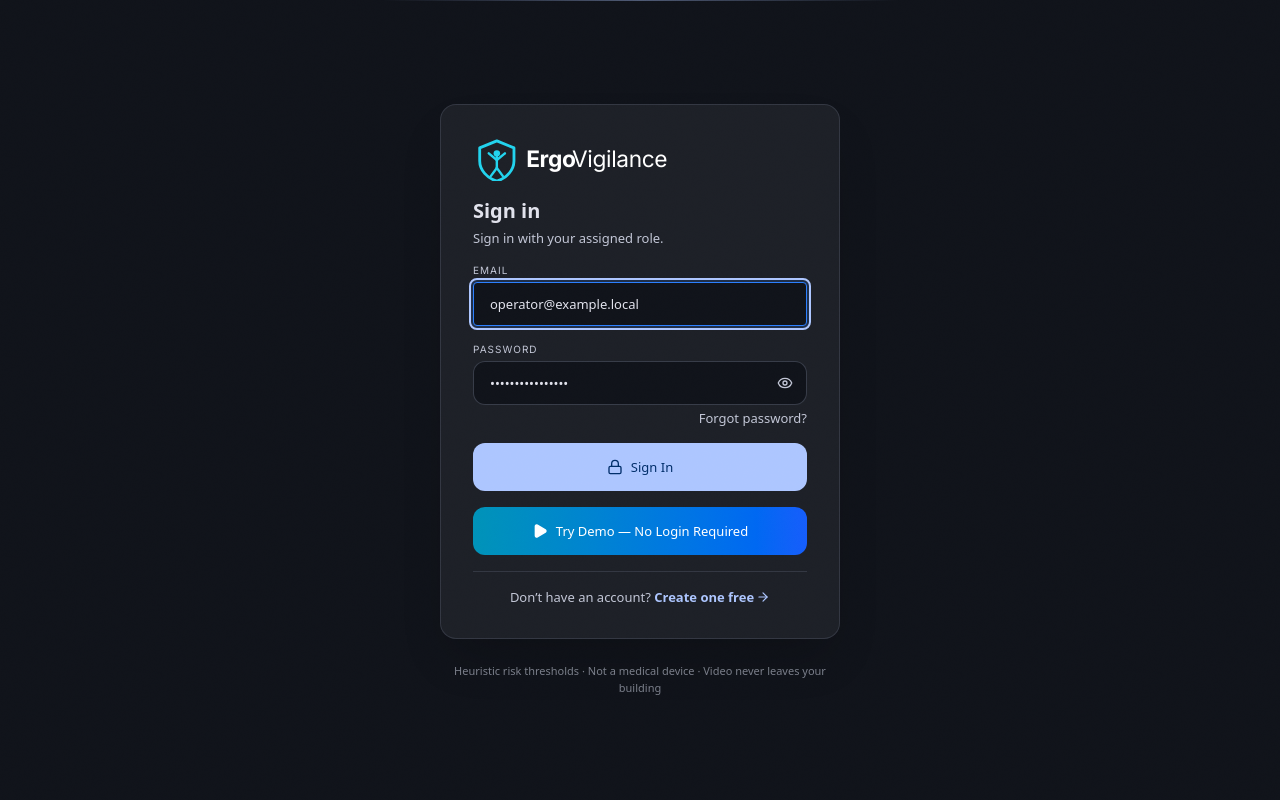
frontend smoke › renders the alert center with no-alerts state
Expected: the heading "Sign in" is shown, top-left (473, 197), bottom-right (540, 224)
Step 1. Click the button "Sign In" → (640, 467), box top-left (473, 443), bottom-right (807, 491)
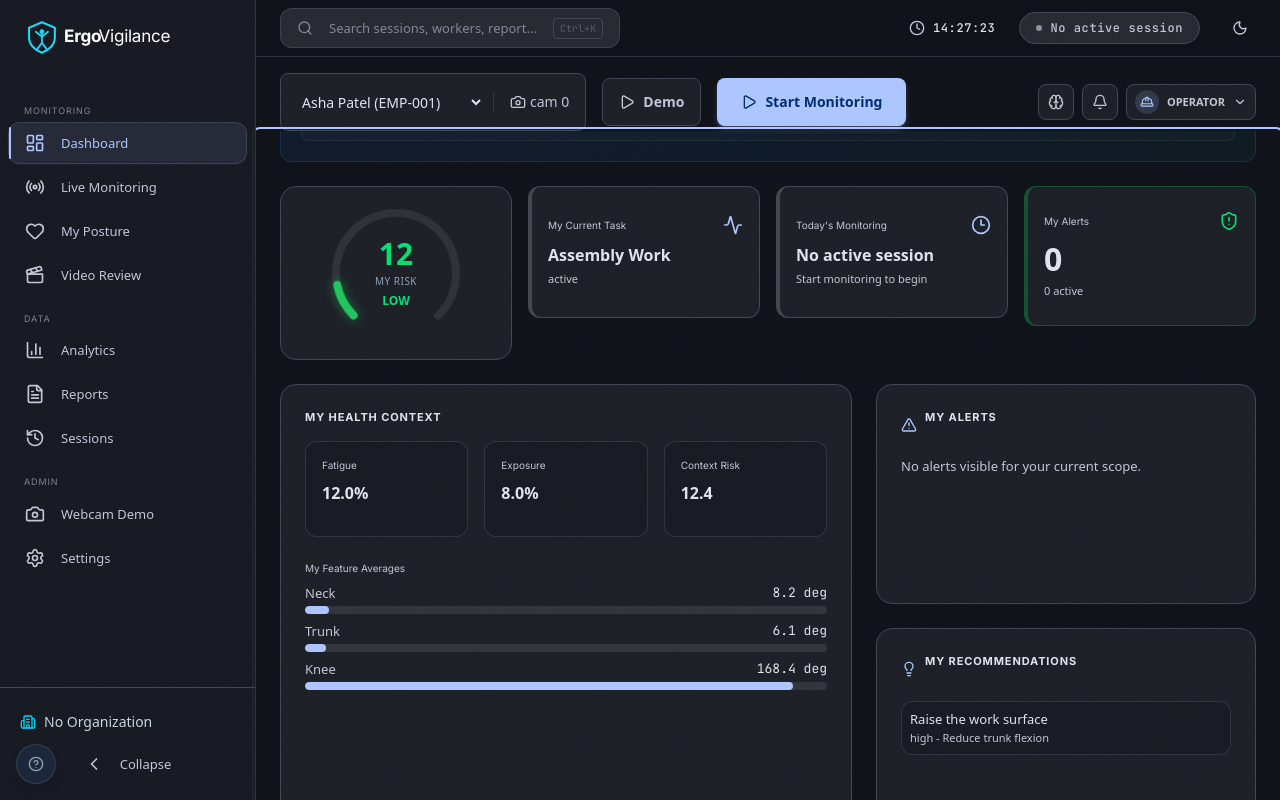
Expected: the text "No alerts visible for your current scope." is shown, top-left (901, 456), bottom-right (1141, 474)
